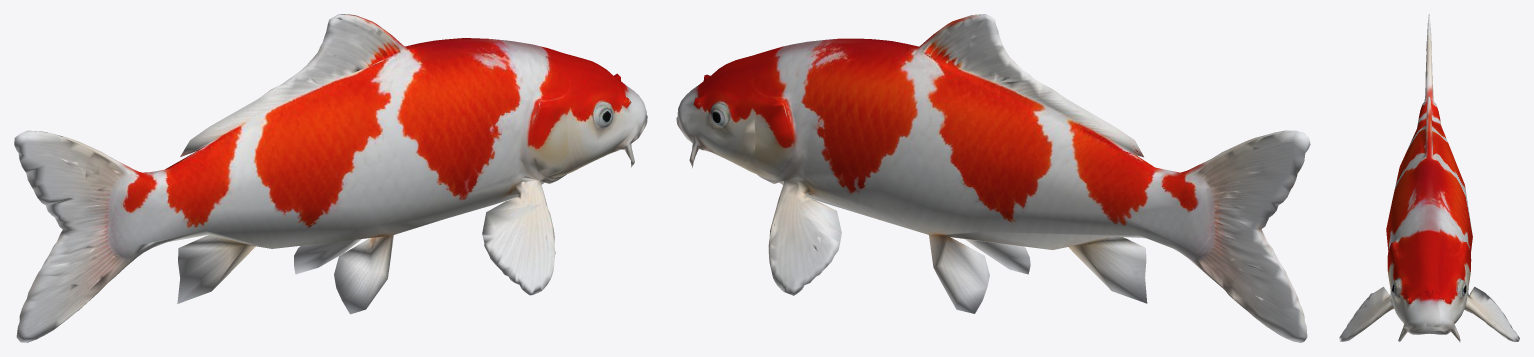
File: kohaku.glb
3 views of the same model, side by side, from view 1: azimuth 30°, elevation 25°; view 2: azimuth 150°, elevation 25°; view 3: azimuth 270°, elevation 25° (orthographic). The views are drawn at different scales.
Visible parts, largest first — view 1: kohaku; view 2: kohaku; view 3: kohaku.
Part boxes in pixels (x1=…): kohaku: x1=14, y1=14, x2=647, y2=342; kohaku: x1=676, y1=14, x2=1310, y2=342; kohaku: x1=1339, y1=14, x2=1519, y2=342.
Bounding box in the file's own units: 1 × 0.4185 × 0.3415.
Materials: 1 (1 with a texture image).
